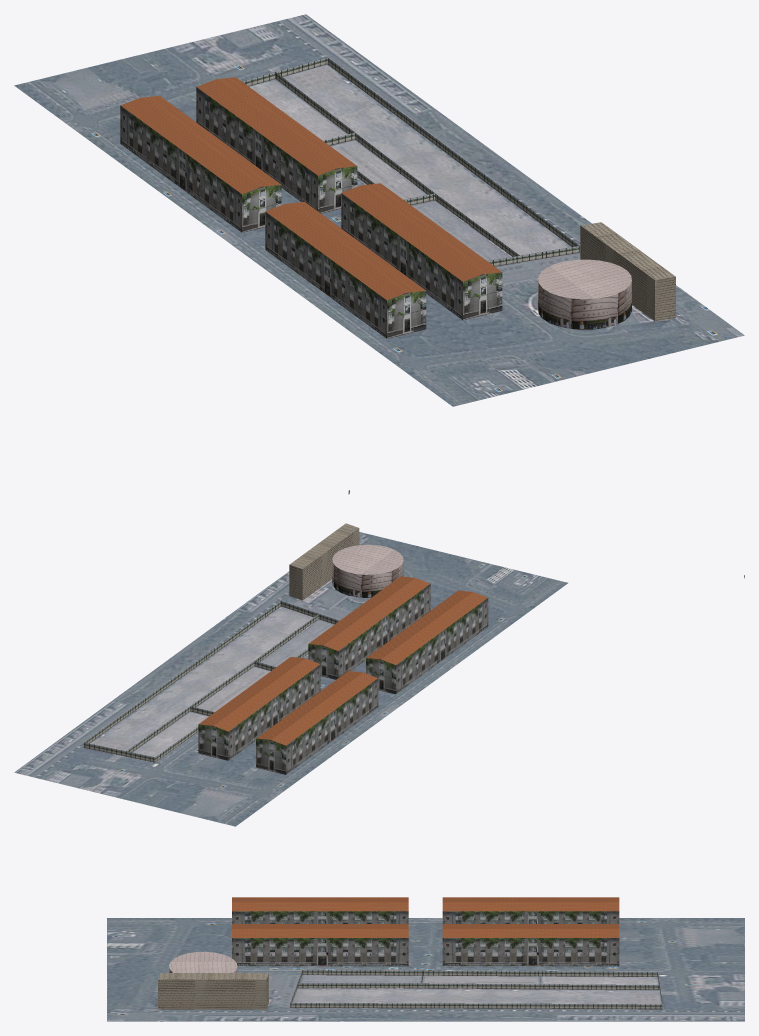
The model's file is sushe.obj.
The picture shows the model from 3 angles, top to bottom: view 1: azimuth 30°, elevation 25°; view 2: azimuth 150°, elevation 25°; view 3: azimuth 270°, elevation 25°; orthographic projection. The views are drawn at different scales.
Visible parts, largest first — view 1: Mesh9 Model, Mesh2 Group2 Model, Mesh1 Group1 Model, Mesh4 Group4 Model, Mesh3 Group3 Model, Mesh7 Model, Mesh6 Model, Mesh8 Model; view 2: Mesh9 Model, Mesh4 Group4 Model, Mesh3 Group3 Model, Mesh2 Group2 Model, Mesh1 Group1 Model, Mesh6 Model, Mesh7 Model, Mesh8 Model; view 3: Mesh9 Model, Mesh3 Group3 Model, Mesh1 Group1 Model, Mesh6 Model, Mesh4 Group4 Model, Mesh2 Group2 Model, Mesh8 Model, Mesh7 Model.
Part boxes in pixels (x1,y1,x2,y2): Mesh9 Model: (14,14,744,406); Mesh2 Group2 Model: (265,202,426,338); Mesh1 Group1 Model: (341,183,502,320); Mesh4 Group4 Model: (120,95,281,232); Mesh3 Group3 Model: (196,77,357,213); Mesh7 Model: (538,259,631,329); Mesh6 Model: (242,57,579,266); Mesh8 Model: (580,222,675,321); Mesh9 Model: (14,532,567,826); Mesh4 Group4 Model: (256,671,378,774); Mesh3 Group3 Model: (198,657,320,760); Mesh2 Group2 Model: (366,590,488,694); Mesh1 Group1 Model: (308,576,430,679); Mesh6 Model: (83,601,338,762); Mesh7 Model: (332,544,403,597); Mesh8 Model: (289,523,359,600); Mesh9 Model: (107,918,744,1021); Mesh3 Group3 Model: (442,924,619,966); Mesh1 Group1 Model: (232,924,408,966); Mesh6 Model: (290,970,662,1009); Mesh4 Group4 Model: (442,897,619,923); Mesh2 Group2 Model: (232,897,408,923); Mesh8 Model: (158,973,268,1009); Mesh7 Model: (169,951,237,972).
Size of the model in its own units: 175000 by 15000 by 330968.
16 materials, 8 textured.
